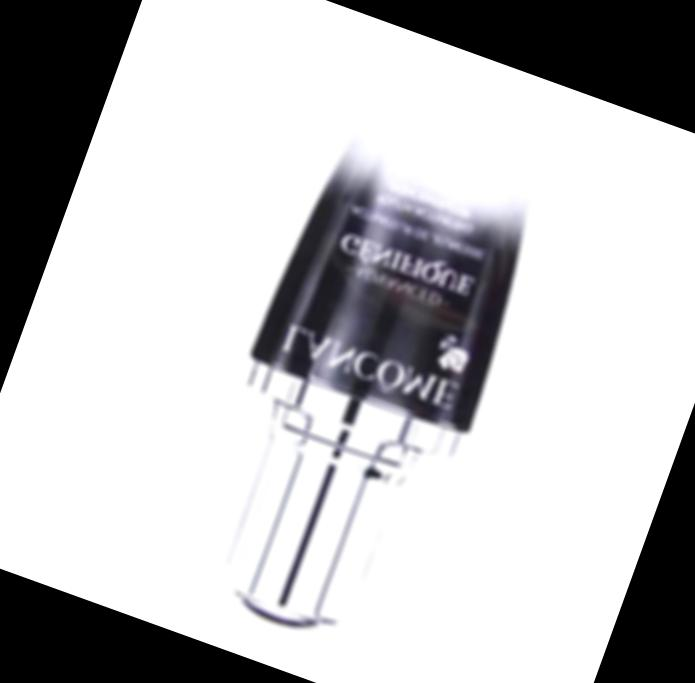cosmetic: (167, 52, 580, 666)
